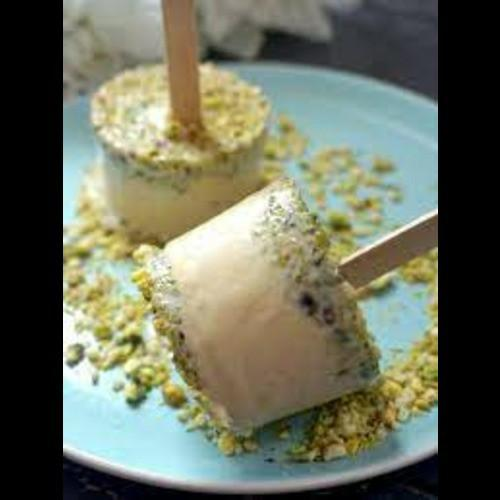Kulfi: (167, 175, 380, 437), (90, 64, 274, 236)
